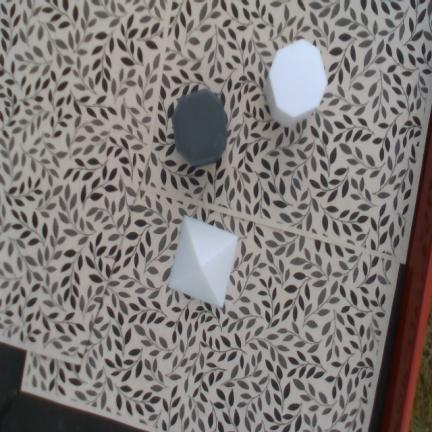Piramide: (168, 214, 239, 308)
Prisma_hexagonal: (264, 38, 328, 128), (171, 89, 227, 166)
